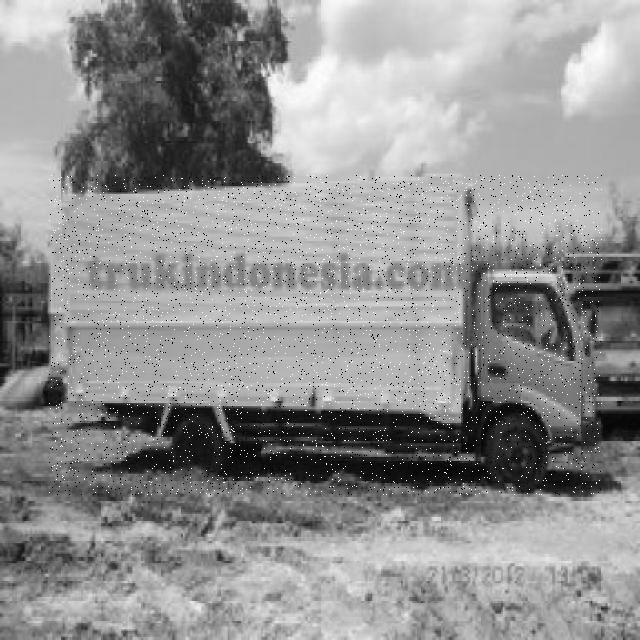Box Truck: (49, 175, 602, 495)
